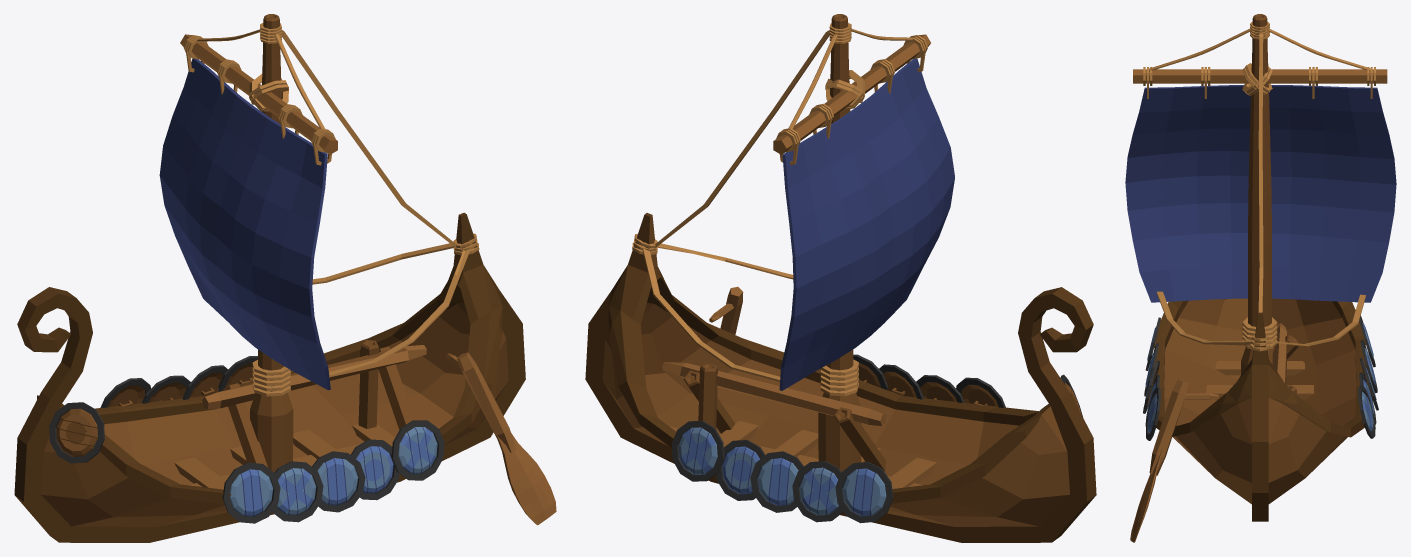
The model's file is D_Knarr_Blue.fbx.
The picture shows the model from 3 angles, left to right: view 1: azimuth 30°, elevation 25°; view 2: azimuth 150°, elevation 25°; view 3: azimuth 270°, elevation 25°; orthographic projection. The views are drawn at different scales.
Visible parts, largest first — view 1: D_Knarr_Blue, D_Knarr__Sail_Blue, D_Knarr_B_Oar.003; view 2: D_Knarr_Blue, D_Knarr__Sail_Blue, D_Knarr_B_Oar.003; view 3: D_Knarr__Sail_Blue, D_Knarr_Blue, D_Knarr_B_Oar.003.
Boxes of the visible parts, <box> form: D_Knarr_Blue: <box>14,14,525,542</box>; D_Knarr__Sail_Blue: <box>159,58,330,390</box>; D_Knarr_B_Oar.003: <box>445,352,556,525</box>; D_Knarr_Blue: <box>585,14,1096,542</box>; D_Knarr__Sail_Blue: <box>779,58,954,390</box>; D_Knarr_B_Oar.003: <box>709,286,743,334</box>; D_Knarr__Sail_Blue: <box>1125,85,1396,302</box>; D_Knarr_Blue: <box>1133,14,1387,521</box>; D_Knarr_B_Oar.003: <box>1130,379,1218,542</box>.
Bounding box in the file's own units: 703 × 671 × 374.
